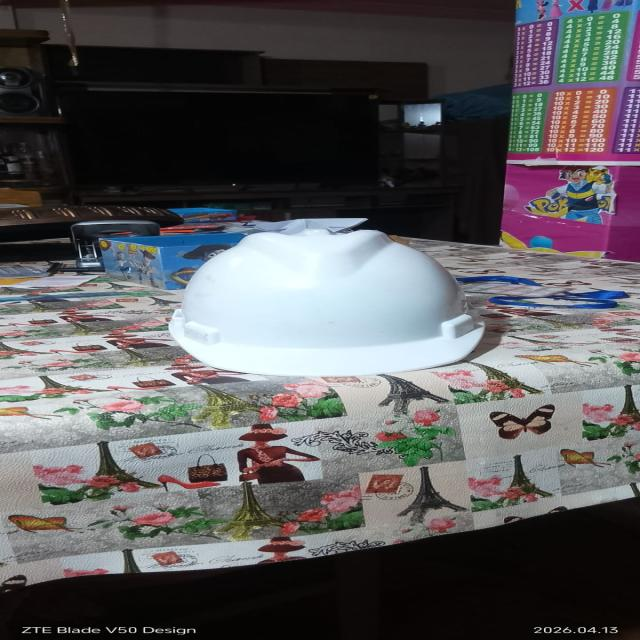casco: (142, 215, 507, 387)
